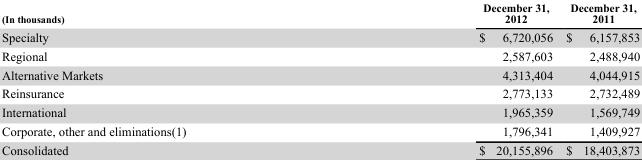table: (0, 0, 639, 156)
table column: (0, 0, 331, 156), (331, 0, 558, 156), (558, 0, 639, 156)
table column header: (0, 0, 639, 27)
table row: (0, 0, 639, 27), (0, 45, 639, 64), (0, 64, 639, 83), (0, 83, 639, 102), (0, 102, 639, 121), (0, 121, 639, 140), (0, 27, 639, 45), (0, 140, 639, 156)
